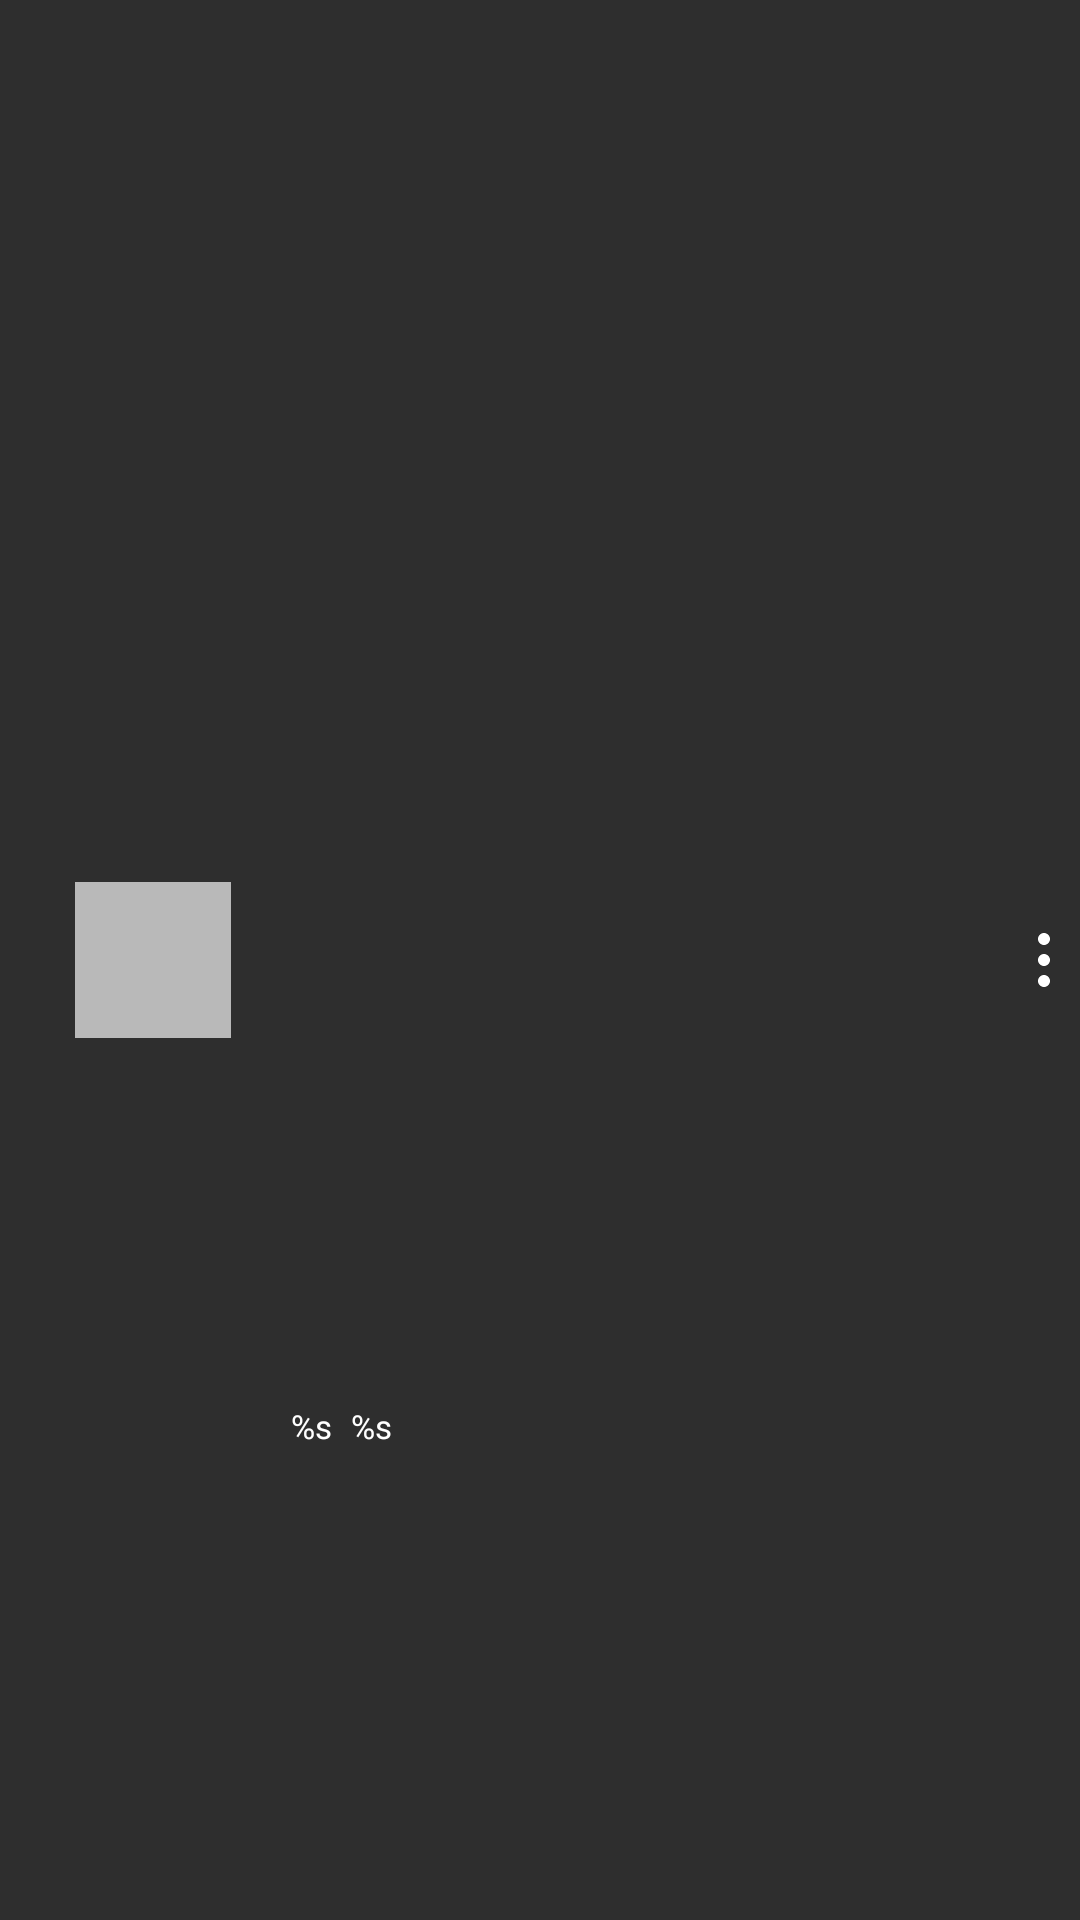

Icons on this 1080*1920 Android screen, each with its box as (x1, y1, x2, y2):
three dot mnu: (1038, 933, 1050, 987)
